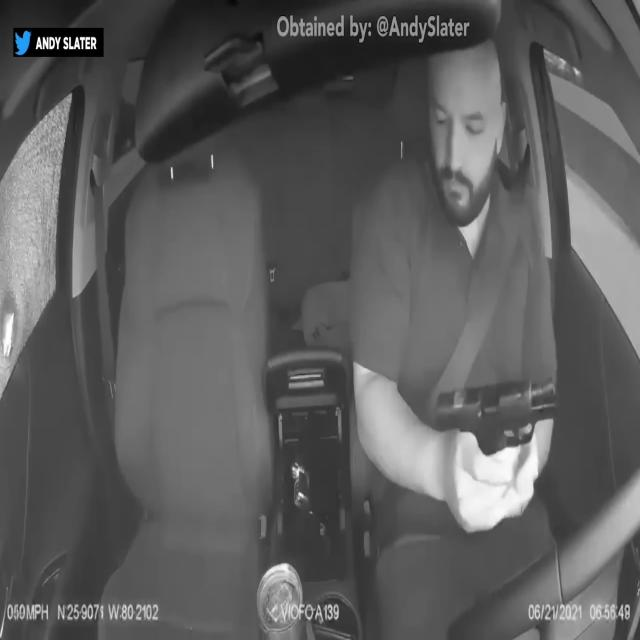senjata_api: (432, 369, 561, 457)
